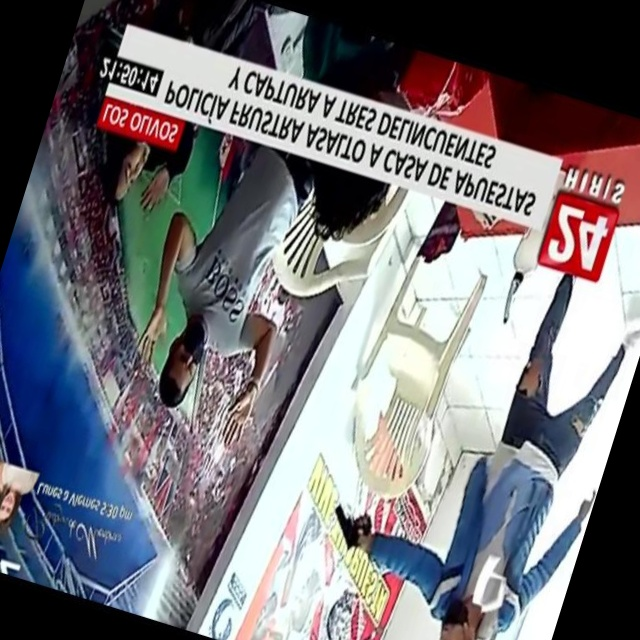gun: (310, 471, 386, 580)
